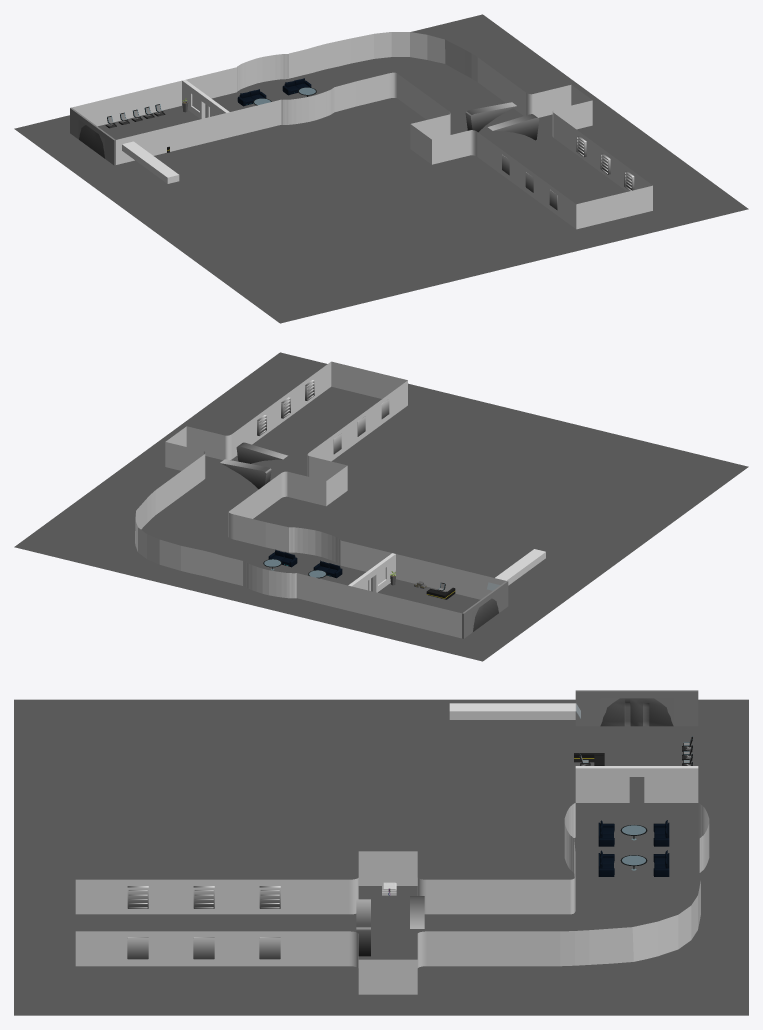
The model's file is Nivel 1.fbx.
3 views of the same model, one above another, from view 1: azimuth 30°, elevation 25°; view 2: azimuth 150°, elevation 25°; view 3: azimuth 270°, elevation 25° (orthographic). The views are drawn at different scales.
Visible parts, largest first — view 1: Piso nivel 1.001, Paredes nivel 1, Cube, Cube.048, Cube.047, Cube.009; view 2: Piso nivel 1.001, Paredes nivel 1, Cube, Cube.048, Cube.047, Cube.009; view 3: Piso nivel 1.001, Paredes nivel 1, Cube, Cube.001, Cube.007, Cube.009, Cube.047.
Boxes of the visible parts, x1,y1,x2,y2 form: Piso nivel 1.001: (14,14,748,323); Paredes nivel 1: (72,32,652,229); Cube: (70,107,115,165); Cube.048: (465,102,516,132); Cube.047: (488,114,539,140); Cube.009: (576,136,634,190); Piso nivel 1.001: (14,352,748,661); Paredes nivel 1: (135,361,545,638); Cube: (462,581,508,638); Cube.048: (220,459,271,489); Cube.047: (236,442,287,463); Cube.009: (257,380,314,435); Piso nivel 1.001: (14,699,748,1015); Paredes nivel 1: (75,703,709,994); Cube: (575,690,698,726); Cube.001: (600,698,673,726); Cube.007: (127,886,280,908); Cube.009: (127,937,280,959); Cube.047: (356,899,370,956).
Bounding box in the file's own units: 35606 × 1914 × 35000.
4 materials, 4 textured.
